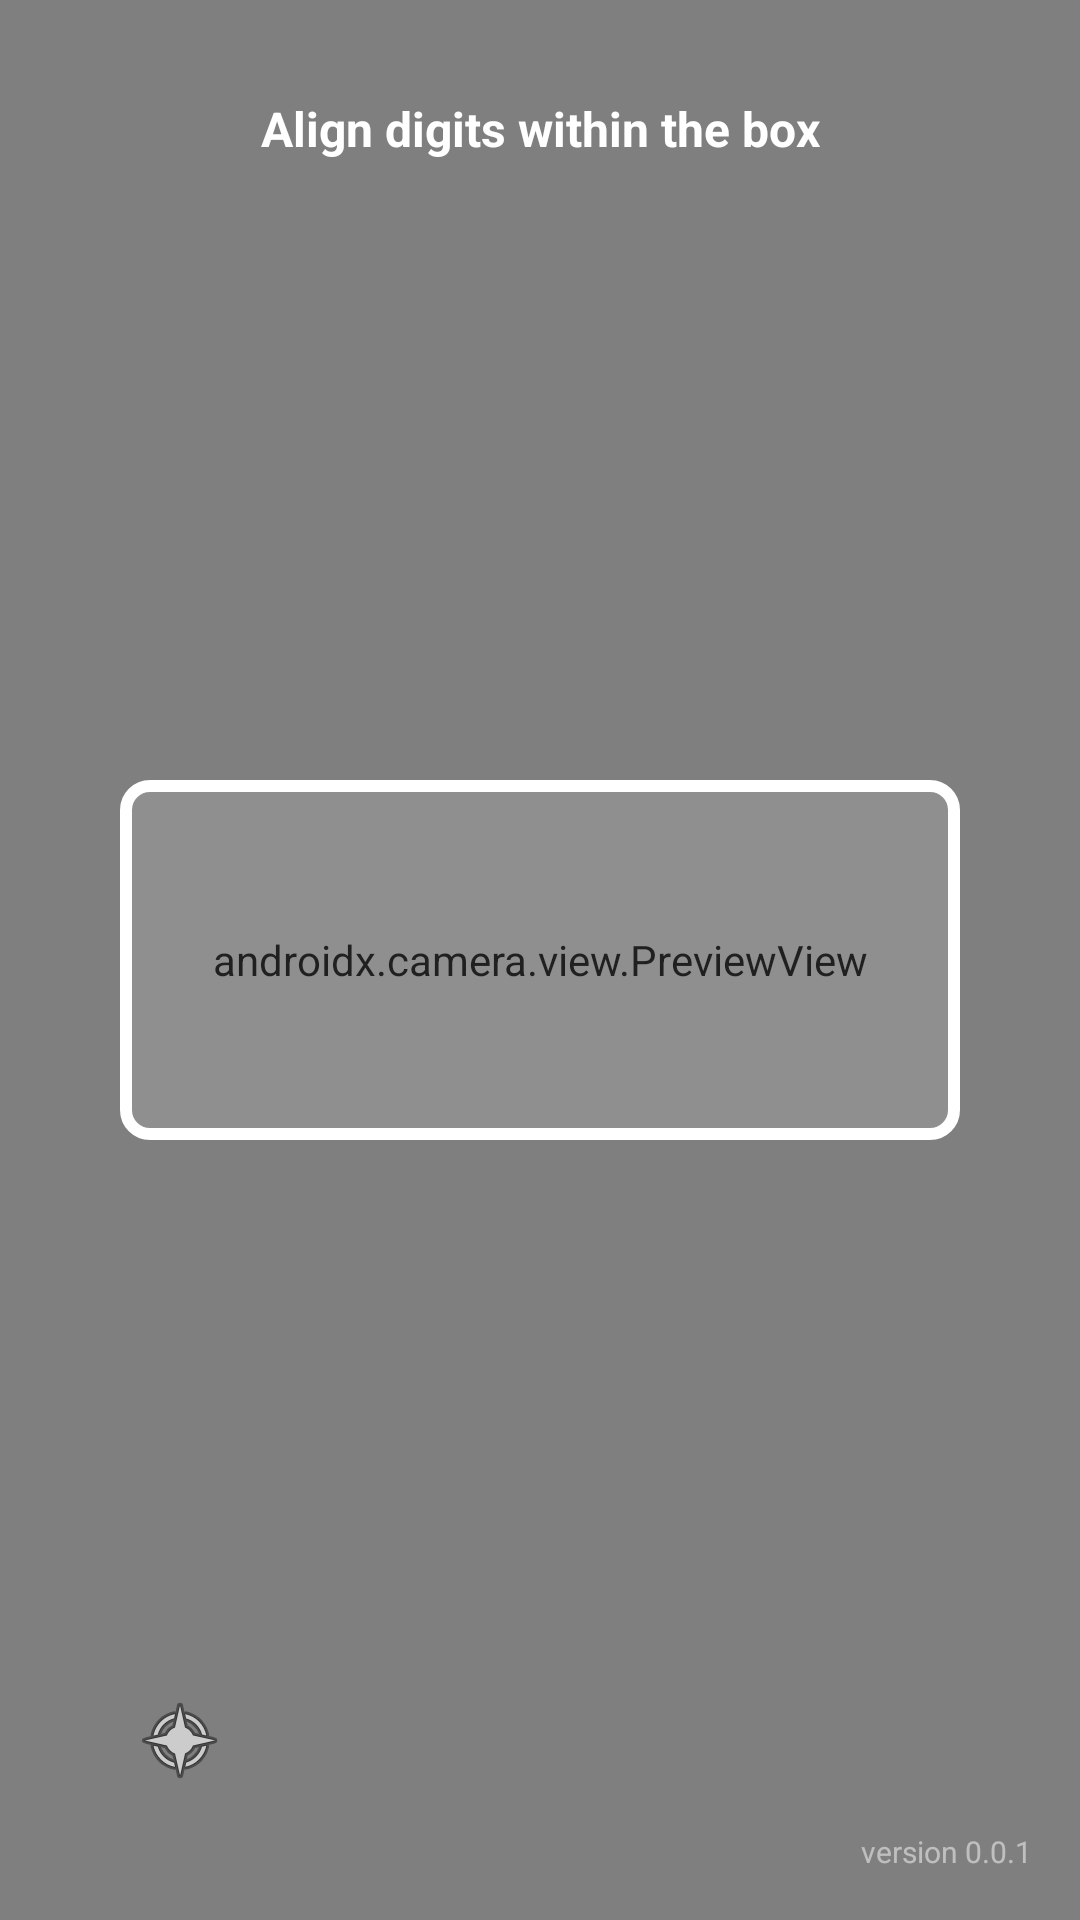

Icons on this 1080px x 1920px Android screen, each with its box as (x1, y1, x2, y2):
compass: (142, 1703, 217, 1778)
